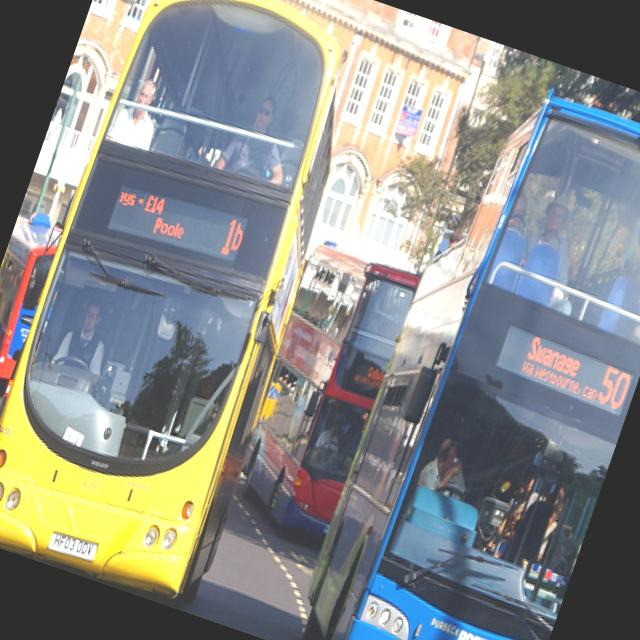Vehicle: (0, 0, 393, 615), (288, 70, 640, 640), (222, 230, 419, 546), (0, 205, 65, 387)
